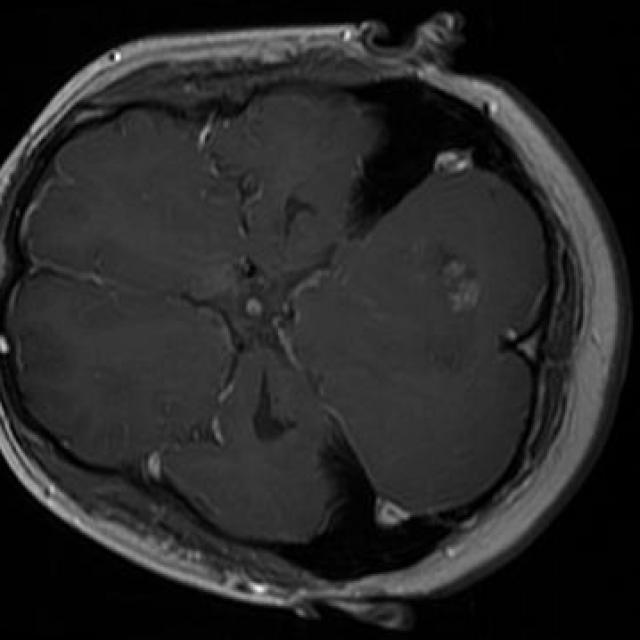glioma: (303, 244, 480, 374)
